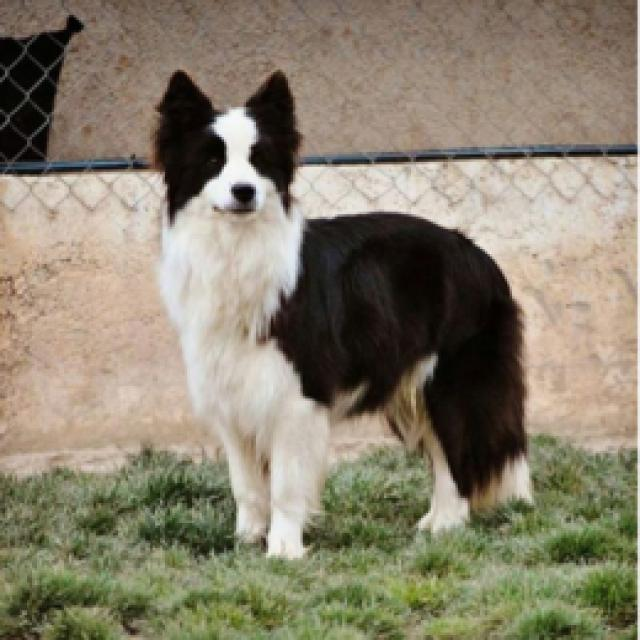BORDER_COLLIE: (143, 52, 550, 554)
